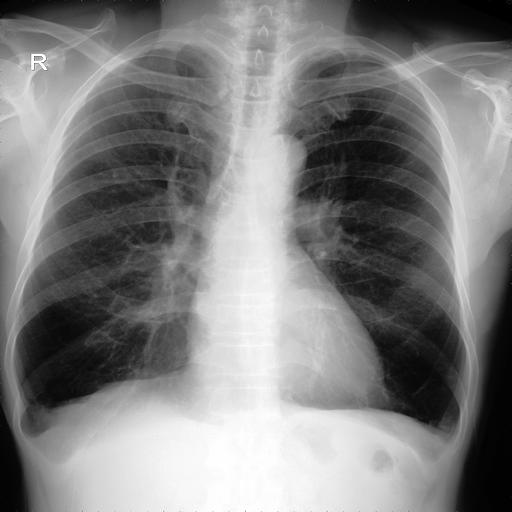Calcification: (4, 393, 62, 455), (418, 417, 461, 464), (319, 40, 393, 64), (130, 37, 199, 59)
Pleural effusion: (4, 393, 62, 455), (436, 428, 463, 455)
